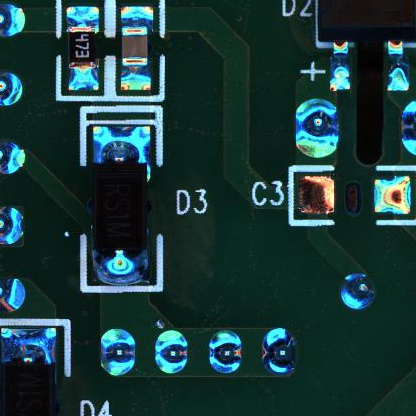spot: (295, 96, 341, 160), (259, 328, 299, 375), (100, 328, 135, 378), (208, 331, 245, 375), (339, 271, 377, 312), (155, 331, 190, 375)
